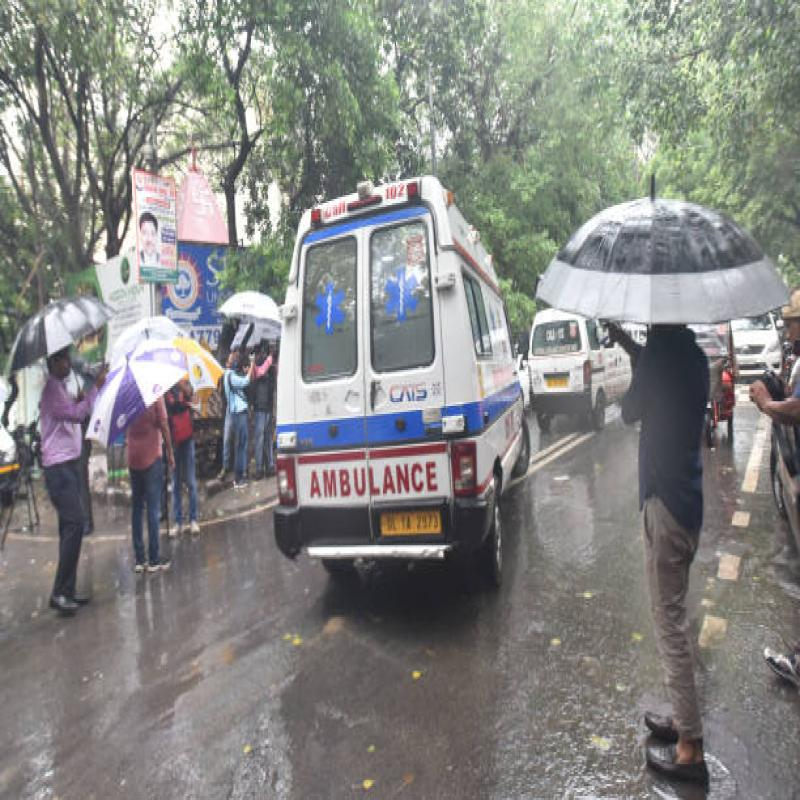ambulance: (258, 157, 538, 626)
